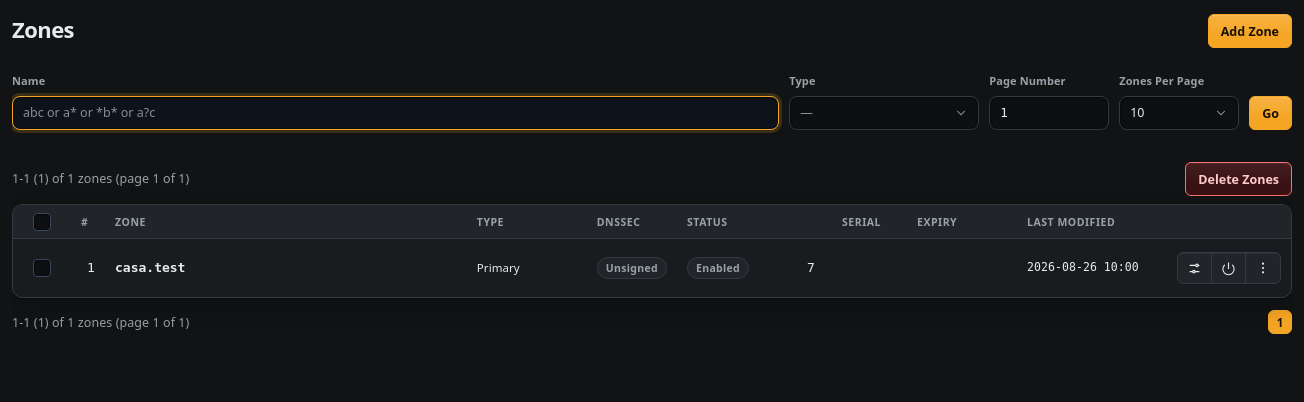
Test: records of a zone › it asks for the whole zone with listZone=true, without paginating on the server
Step 1. Click the button "casa.test" → [150, 268], box [115,258,186,278]
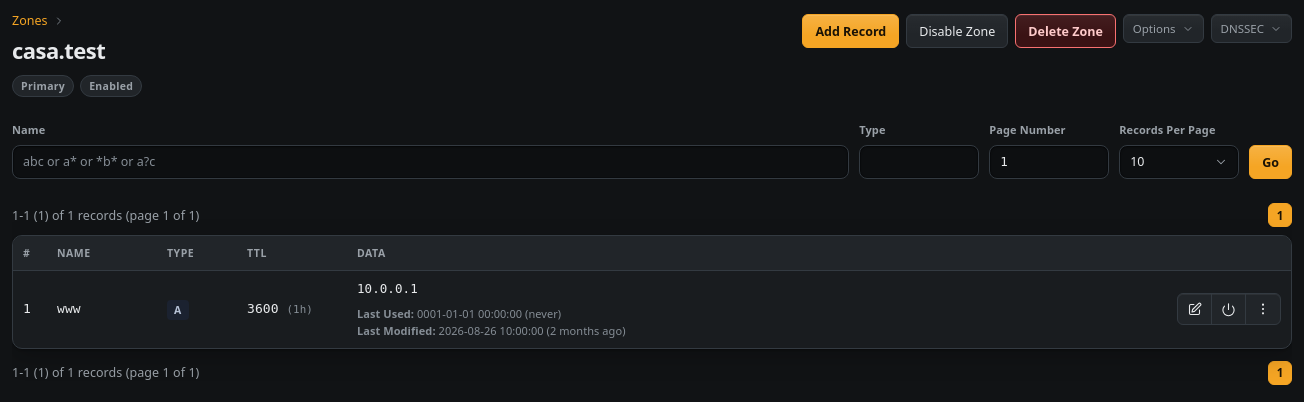
expect the heading "casa.test" is shown: met, box [12,35,105,65]
